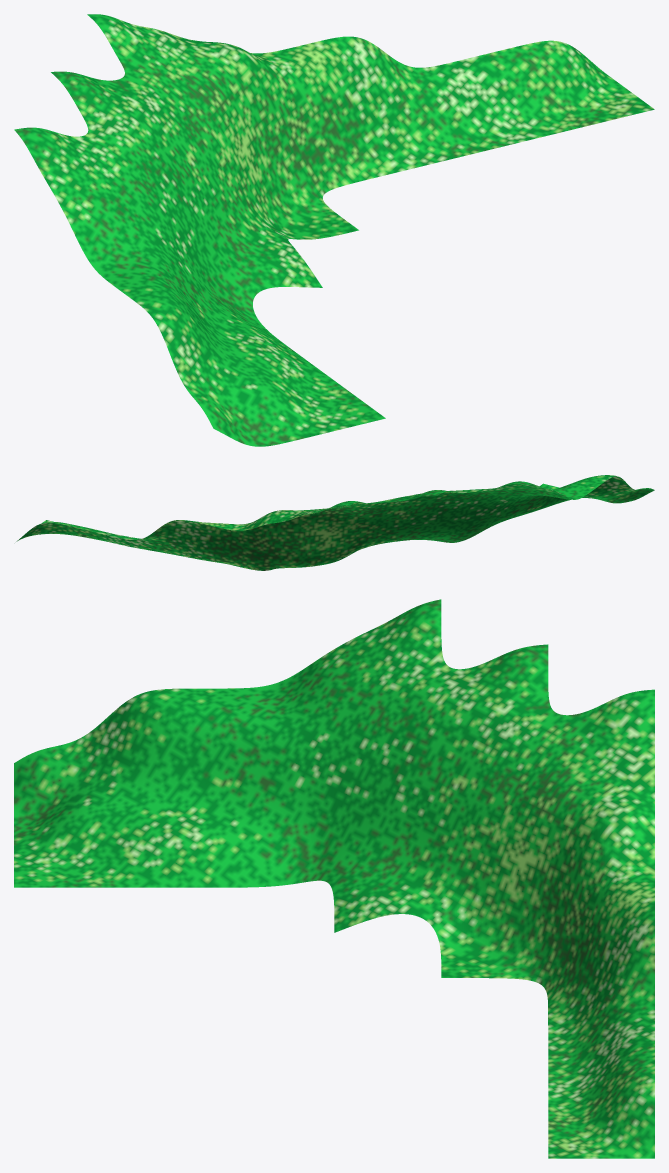
File: Background Hills.glb
3 views of the same model, one above another, from view 1: azimuth 30°, elevation 25°; view 2: azimuth 150°, elevation 25°; view 3: azimuth 270°, elevation 25° (orthographic). The views are drawn at different scales.
Visible parts, largest first — view 1: Plane.007; view 2: Plane.007; view 3: Plane.007.
Boxes of the visible parts, x1=… form: Plane.007: x1=14, y1=14, x2=654, y2=446; Plane.007: x1=16, y1=475, x2=654, y2=570; Plane.007: x1=14, y1=599, x2=654, y2=1158.
Size of the model in its own units: 512 by 131 by 384.
Materials: 1 (1 with a texture image).
